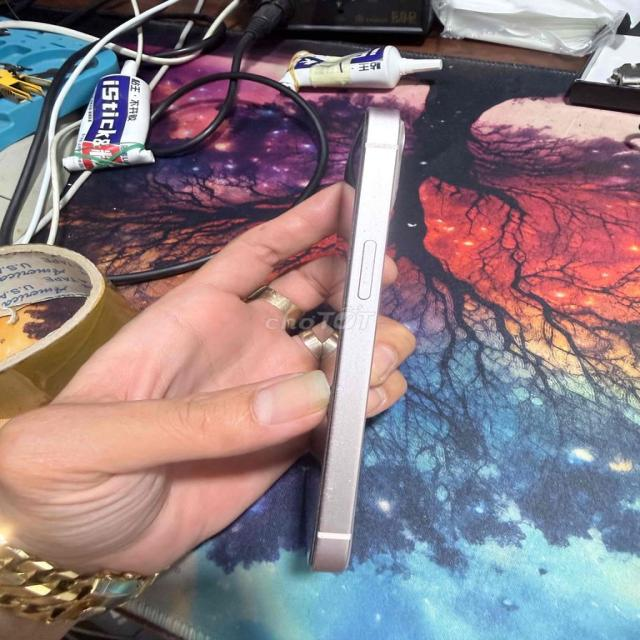gen_12_13: (304, 101, 418, 594)
scratch: (317, 364, 363, 563)
